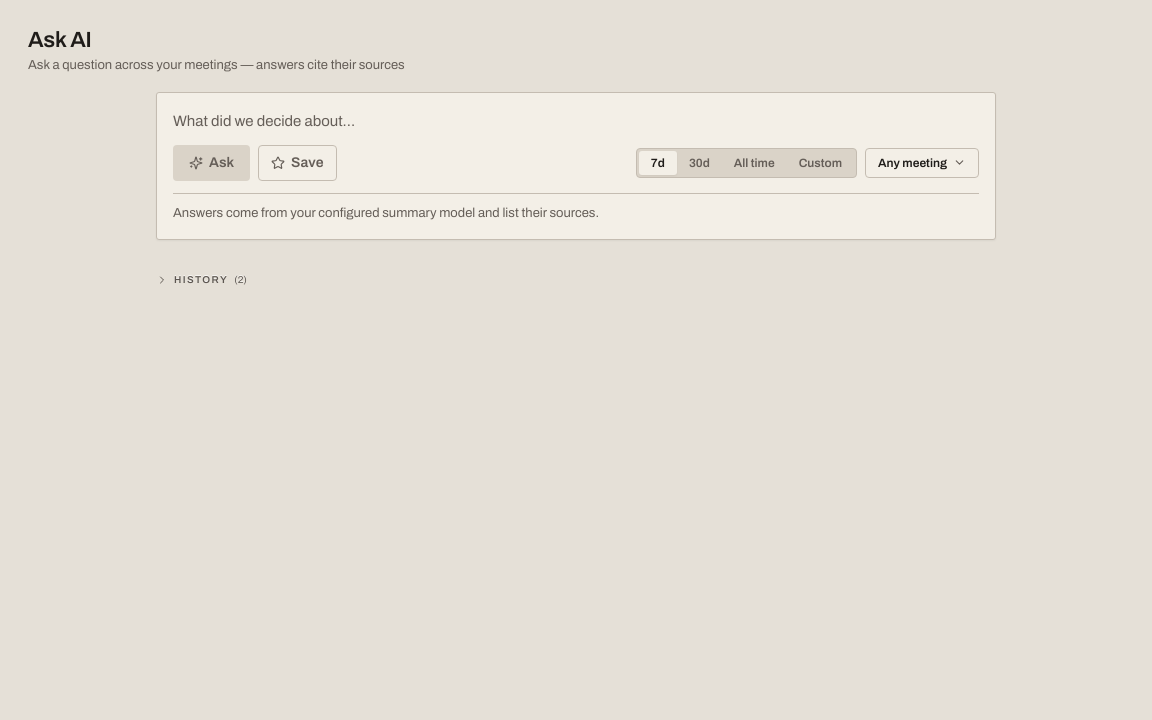
Ask AI — history expands in place › clicking the same row again collapses it
Click the button "History (2)". click: click(201, 280)
box: x1=156 y1=272 x2=247 y2=287
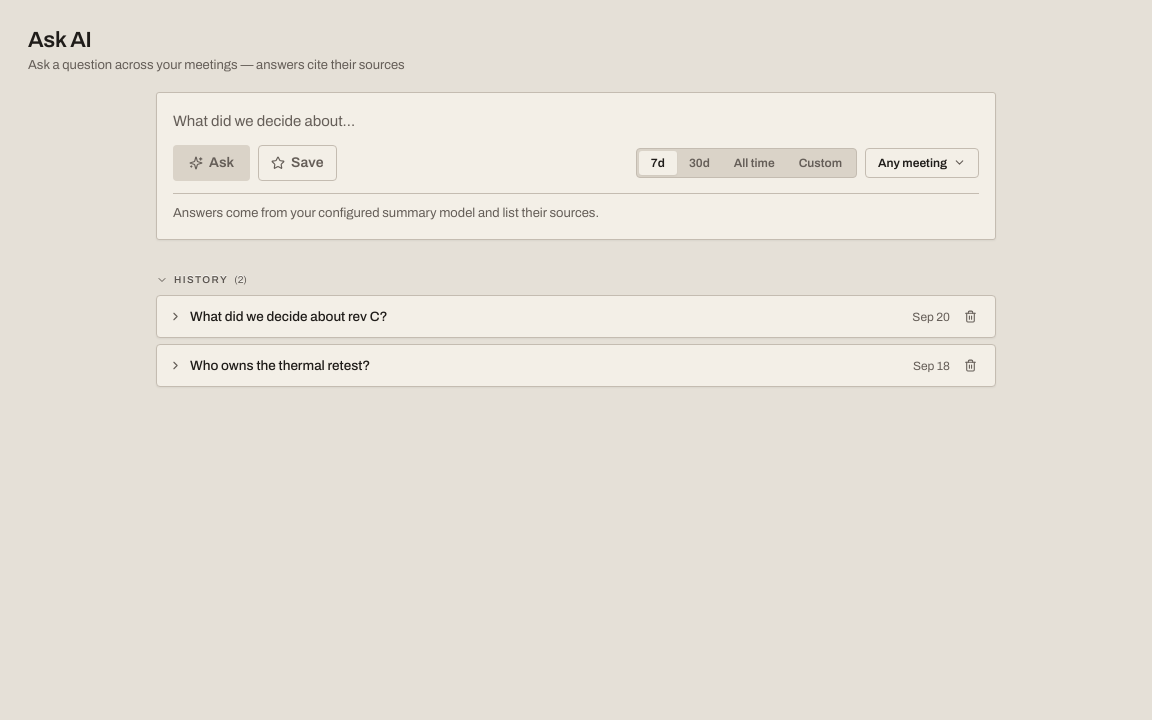
Click the button "What did we decide about rev C? Sep 20". click: click(289, 316)
box: x1=169 y1=307 x2=950 y2=327
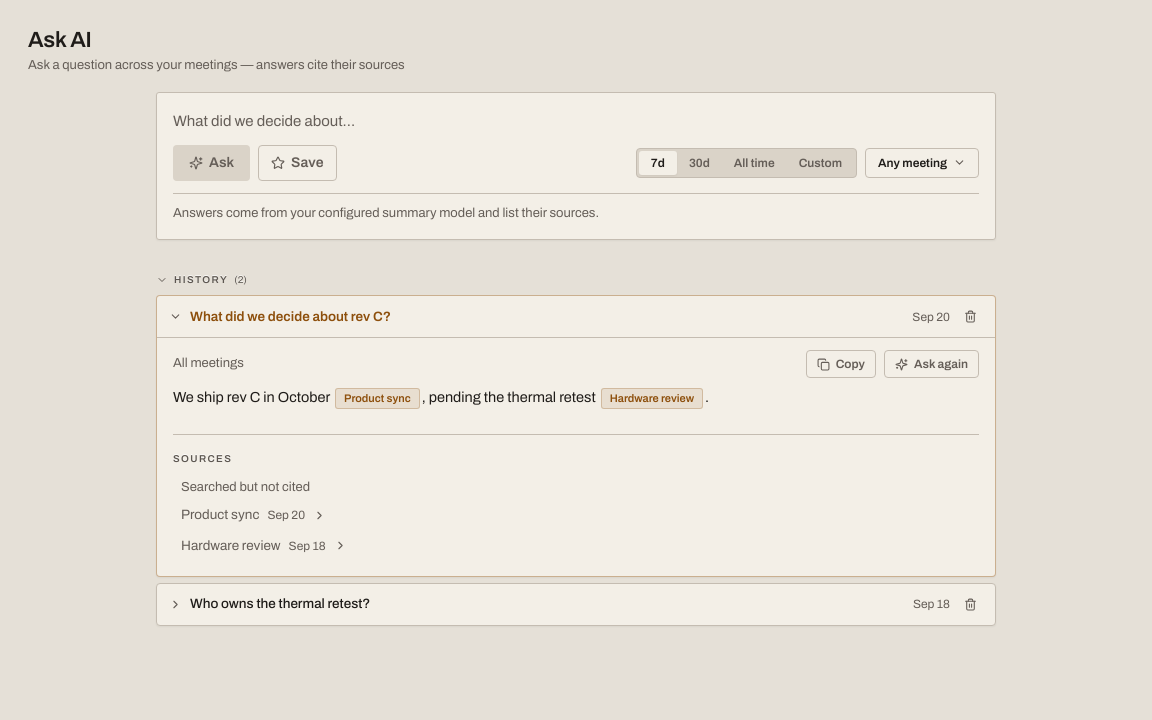
Check: the text "We ship rev C in October" is shown, box x1=173 y1=389 x2=333 y2=405
Click the button "What did we decide about rev C? Sep 20". click: click(290, 316)
box: x1=169 y1=307 x2=950 y2=327
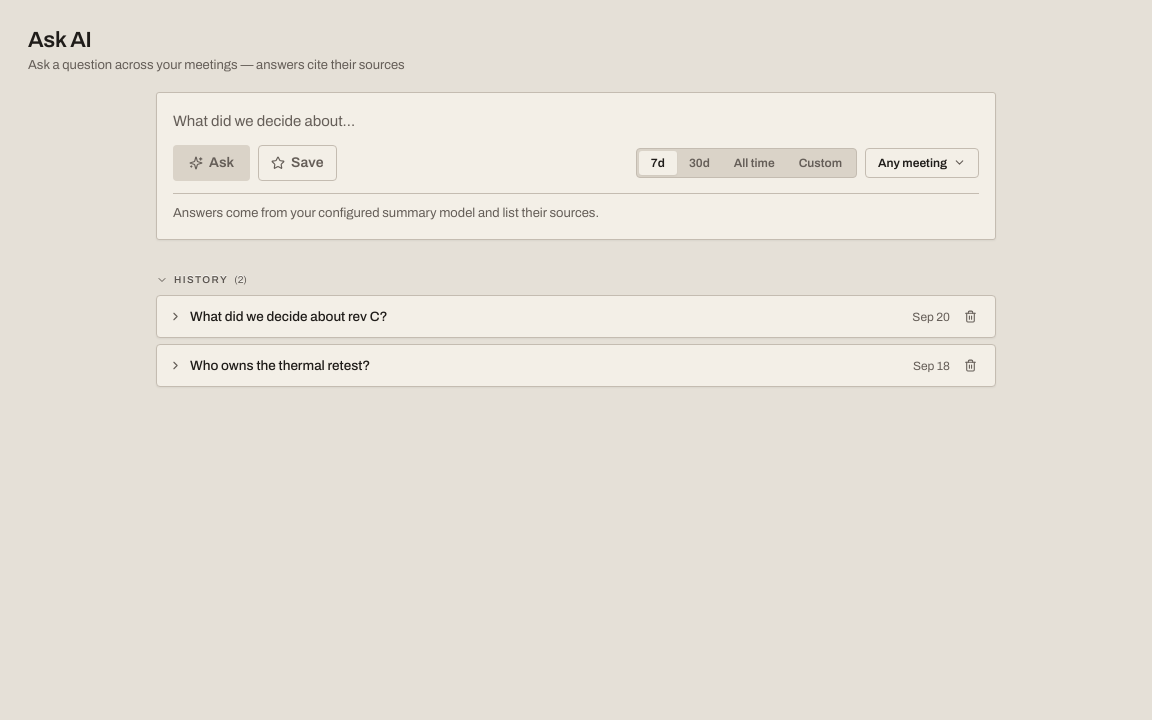
Check: the text "We ship rev C in October" is gone
